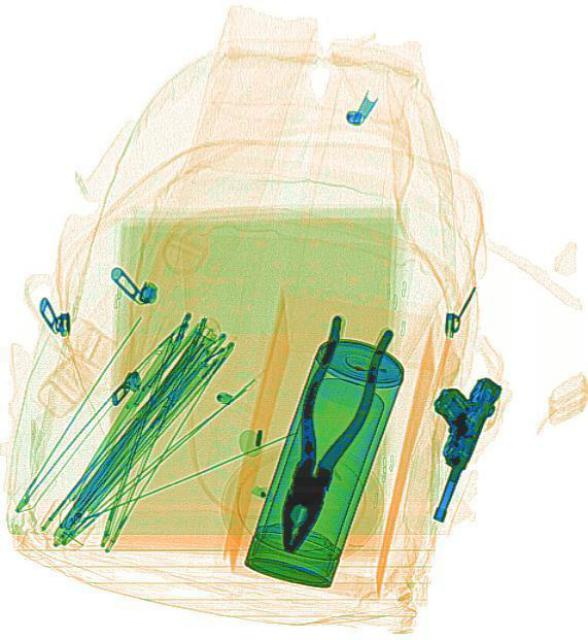Gun: (391, 361, 504, 527)
Pliers: (253, 310, 393, 562)
